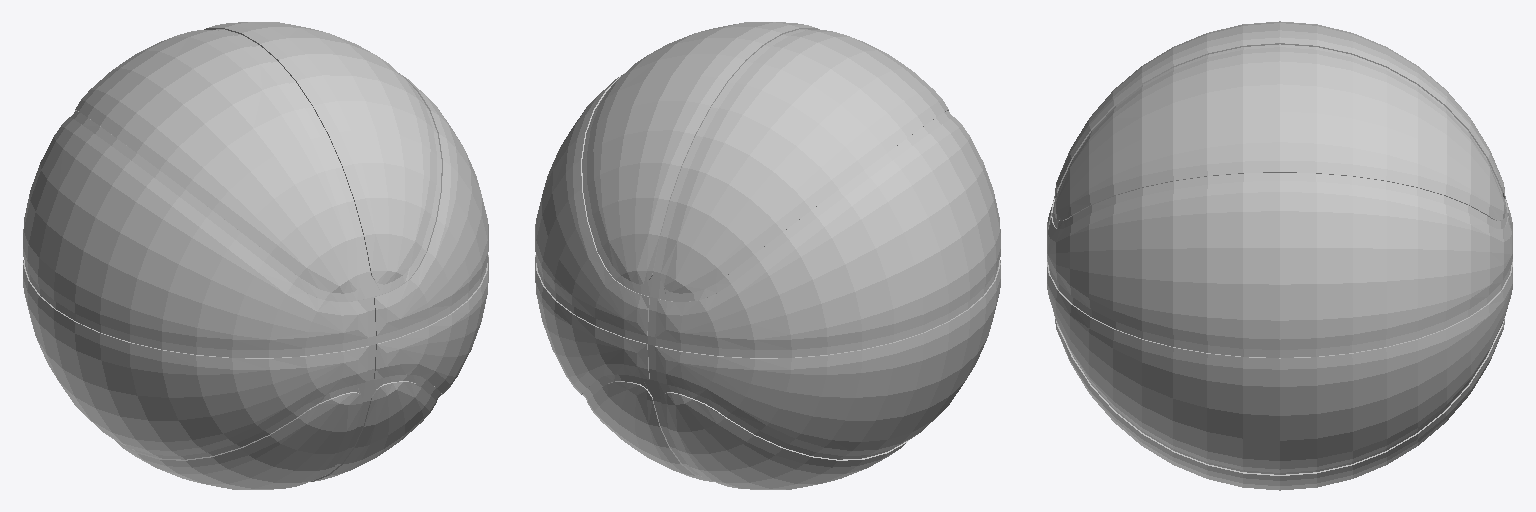
Rendered from basketball.obj.
3 renders of one model, left to right at view 1: azimuth 30°, elevation 25°; view 2: azimuth 150°, elevation 25°; view 3: azimuth 270°, elevation 25°, orthographic.
Visible parts, largest first — view 1: Basketball; view 2: Basketball; view 3: Basketball.
Part boxes in pixels (bbox=[...]): Basketball: bbox=[23, 22, 488, 489]; Basketball: bbox=[535, 22, 1000, 489]; Basketball: bbox=[1047, 21, 1512, 490].
Bounding box in the file's own units: 0.48 × 0.48 × 0.48.